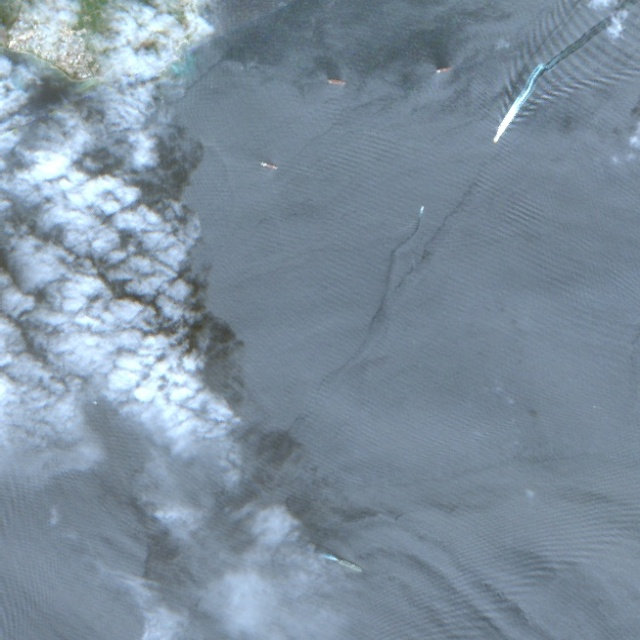wake: (459, 8, 601, 167)
